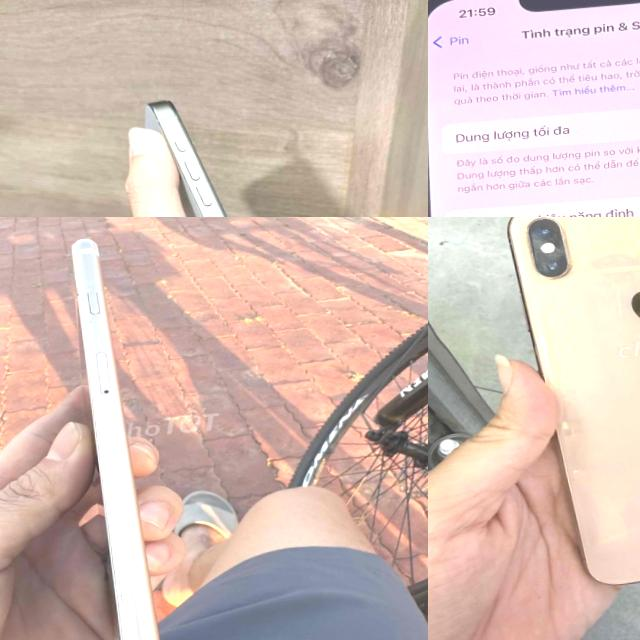gen_12_13: (428, 0, 640, 217)
gen_15: (119, 79, 313, 217)
gen_6: (60, 227, 190, 640)
gen_x_xs: (483, 217, 640, 596)
